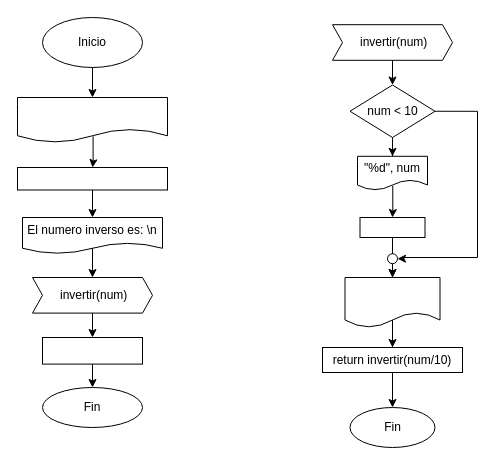
The diagram is 503 pixels wide and 465 high, and some of its shapes have lost their labels. The centre of each missing label's shape, as x and y in pixels:
"%d", num % 10: (392,302)
"Ingrese el numero a invertir:\n": (92,119)
num = validar_int_min(0);: (92,178)
return: (392,227)
return 0: (92,350)
